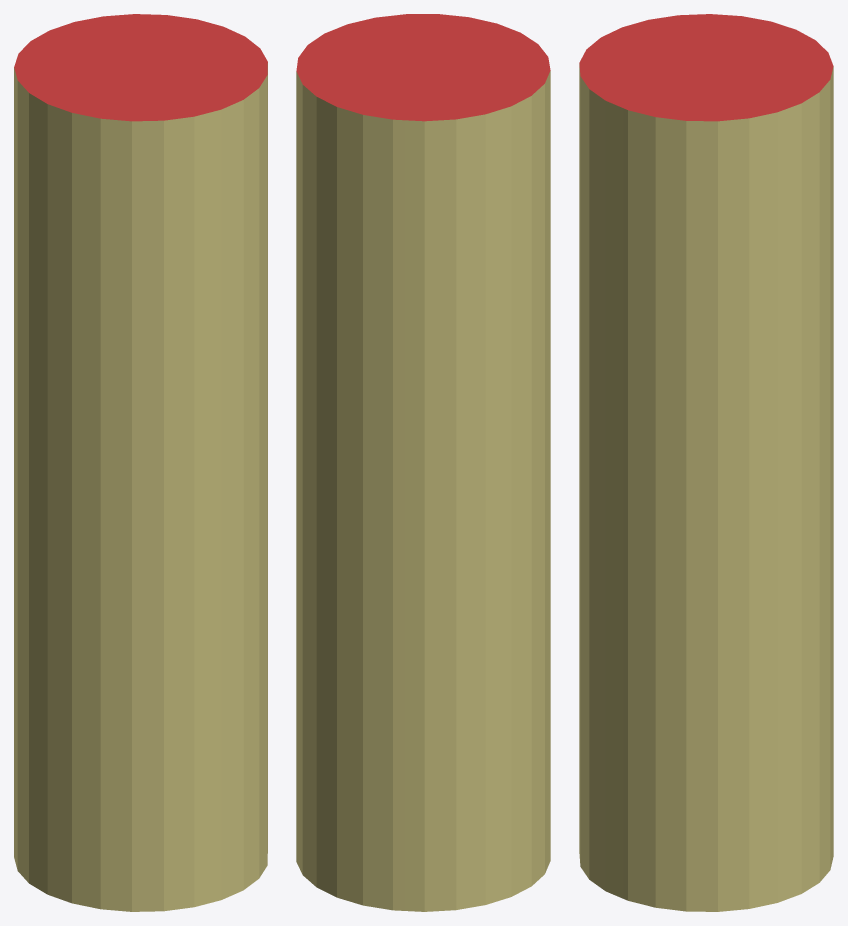
The picture shows the model from 3 angles, left to right: view 1: azimuth 30°, elevation 25°; view 2: azimuth 150°, elevation 25°; view 3: azimuth 270°, elevation 25°; orthographic projection.
Bounding box in the file's own units: 3.36 × 3.36 × 11.54.
